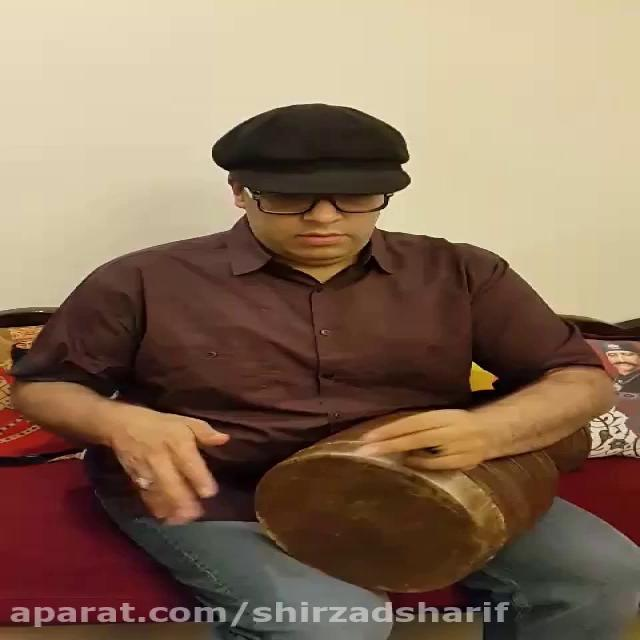Tombak: (237, 418, 584, 625)
